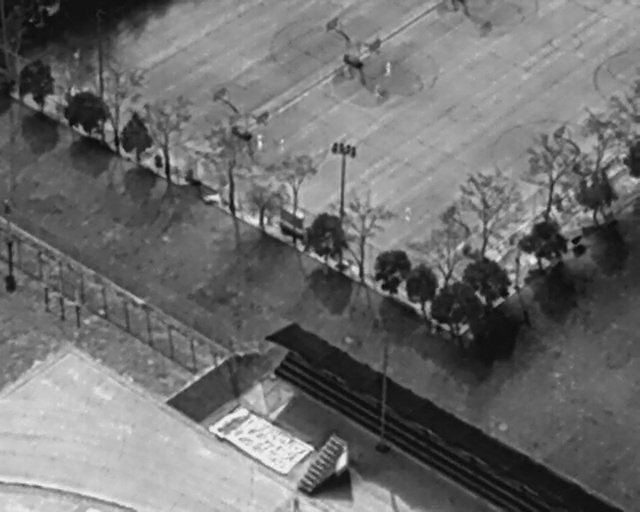Person: (383, 59, 392, 77), (255, 132, 263, 150), (72, 47, 80, 65), (404, 205, 412, 222), (277, 137, 285, 152)
